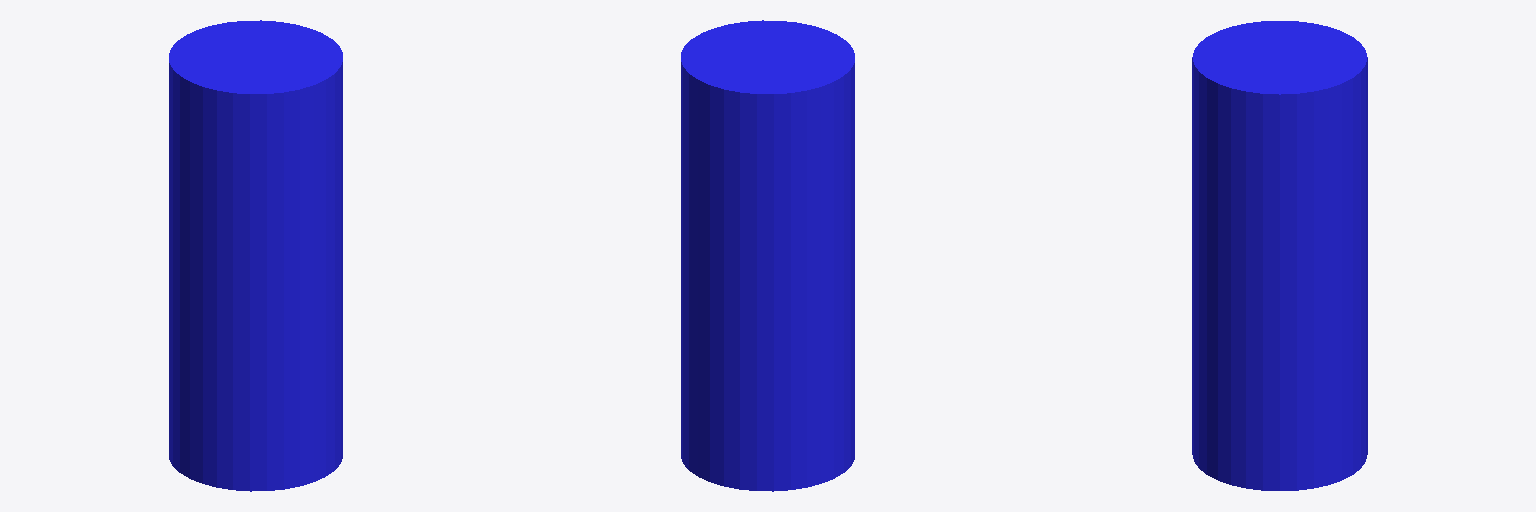
URDF robot description (cylinder_object):
<?xml version="1.0"?>
<robot name="cylinder_object">
  <link name="cylinder_link">
    <visual>
      <geometry>
        <cylinder radius="0.02" length="0.1"/>
      </geometry>
      <material name="blue">
        <color rgba="0.2 0.2 1.0 1.0"/>
      </material>
    </visual>
    <collision>
      <geometry>
        <cylinder radius="0.02" length="0.1"/>
      </geometry>
    </collision>
    <inertial>
      <mass value="0.1"/>
      <inertia ixx="0.0002" ixy="0.0" ixz="0.0"
               iyy="0.0002" iyz="0.0"
               izz="0.000"/>
    </inertial>
  </link>
  <!-- <gazebo reference="cylinder_link">
  <static>true</static>
</gazebo> -->
</robot>

--- Render facts (derived) ---
Views: 3 orthographic renders of the robot side by side, from view 1: azimuth 30°, elevation 25°; view 2: azimuth 150°, elevation 25°; view 3: azimuth 270°, elevation 25°.
Robot: cylinder_object — 1 links, 0 joints (none); root link cylinder_link; default pose: all joints at 0.
Links seen in each view (by area): view 1: cylinder_link; view 2: cylinder_link; view 3: cylinder_link.
Link boxes in pixels (box(x1,y1,x2,y2)): cylinder_link: box(169, 20, 342, 491); cylinder_link: box(681, 20, 854, 491); cylinder_link: box(1192, 21, 1367, 490).
Bounding box of the posed robot: 0.04 × 0.04 × 0.1 m (x, y, z).
Geometry: primitives only (box / cylinder / sphere), no mesh files.